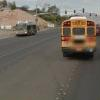Bus: (57, 13, 96, 58)
